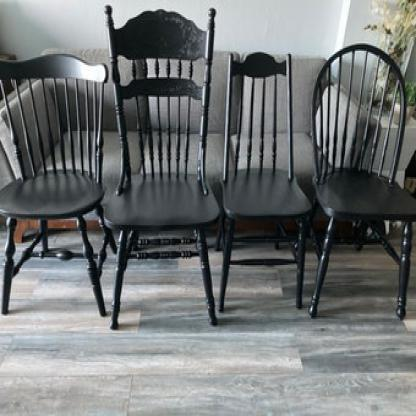chair: (107, 5, 216, 327), (311, 42, 416, 329), (0, 49, 108, 319), (215, 42, 311, 326)
